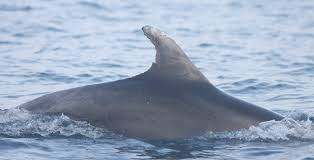fin: (21, 15, 296, 146)
